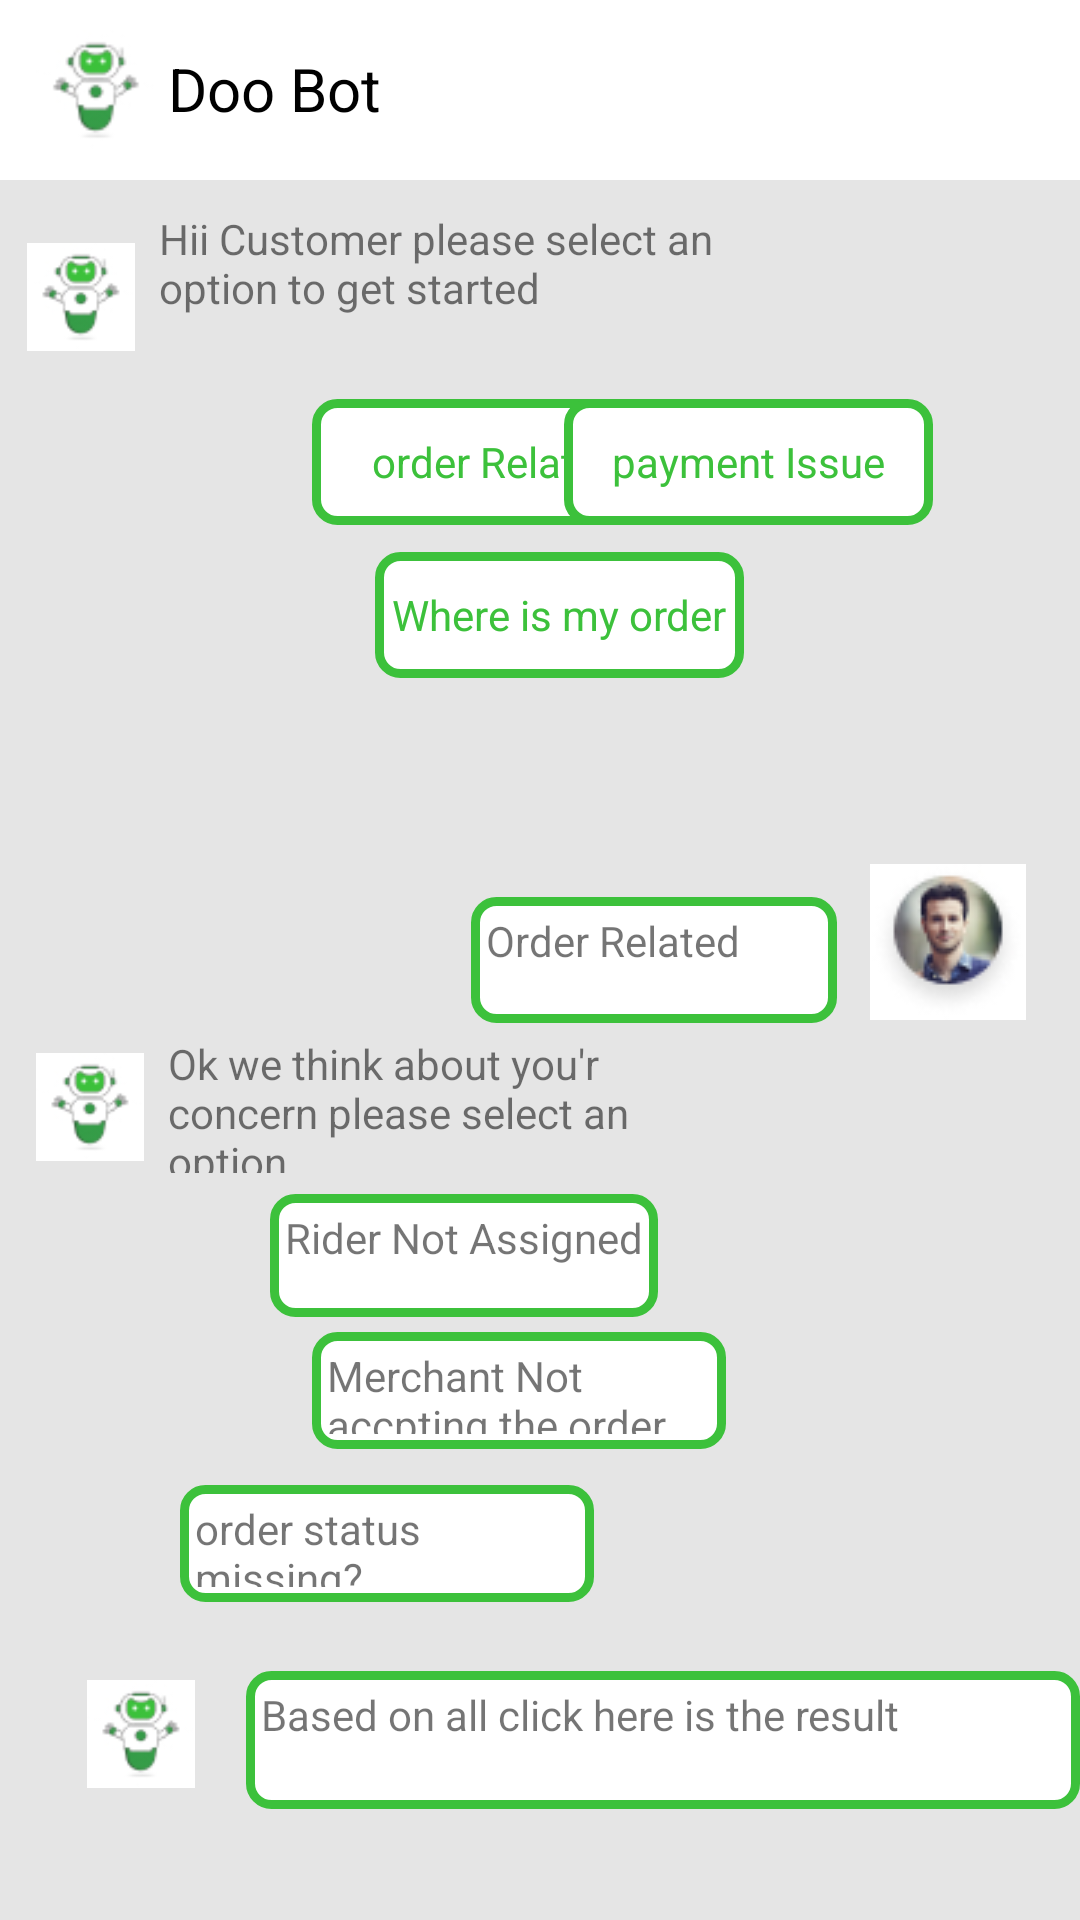

Named icons in this screenshot (1080 x 1920) and their centers, point (x, y):
man: point (948, 942)
